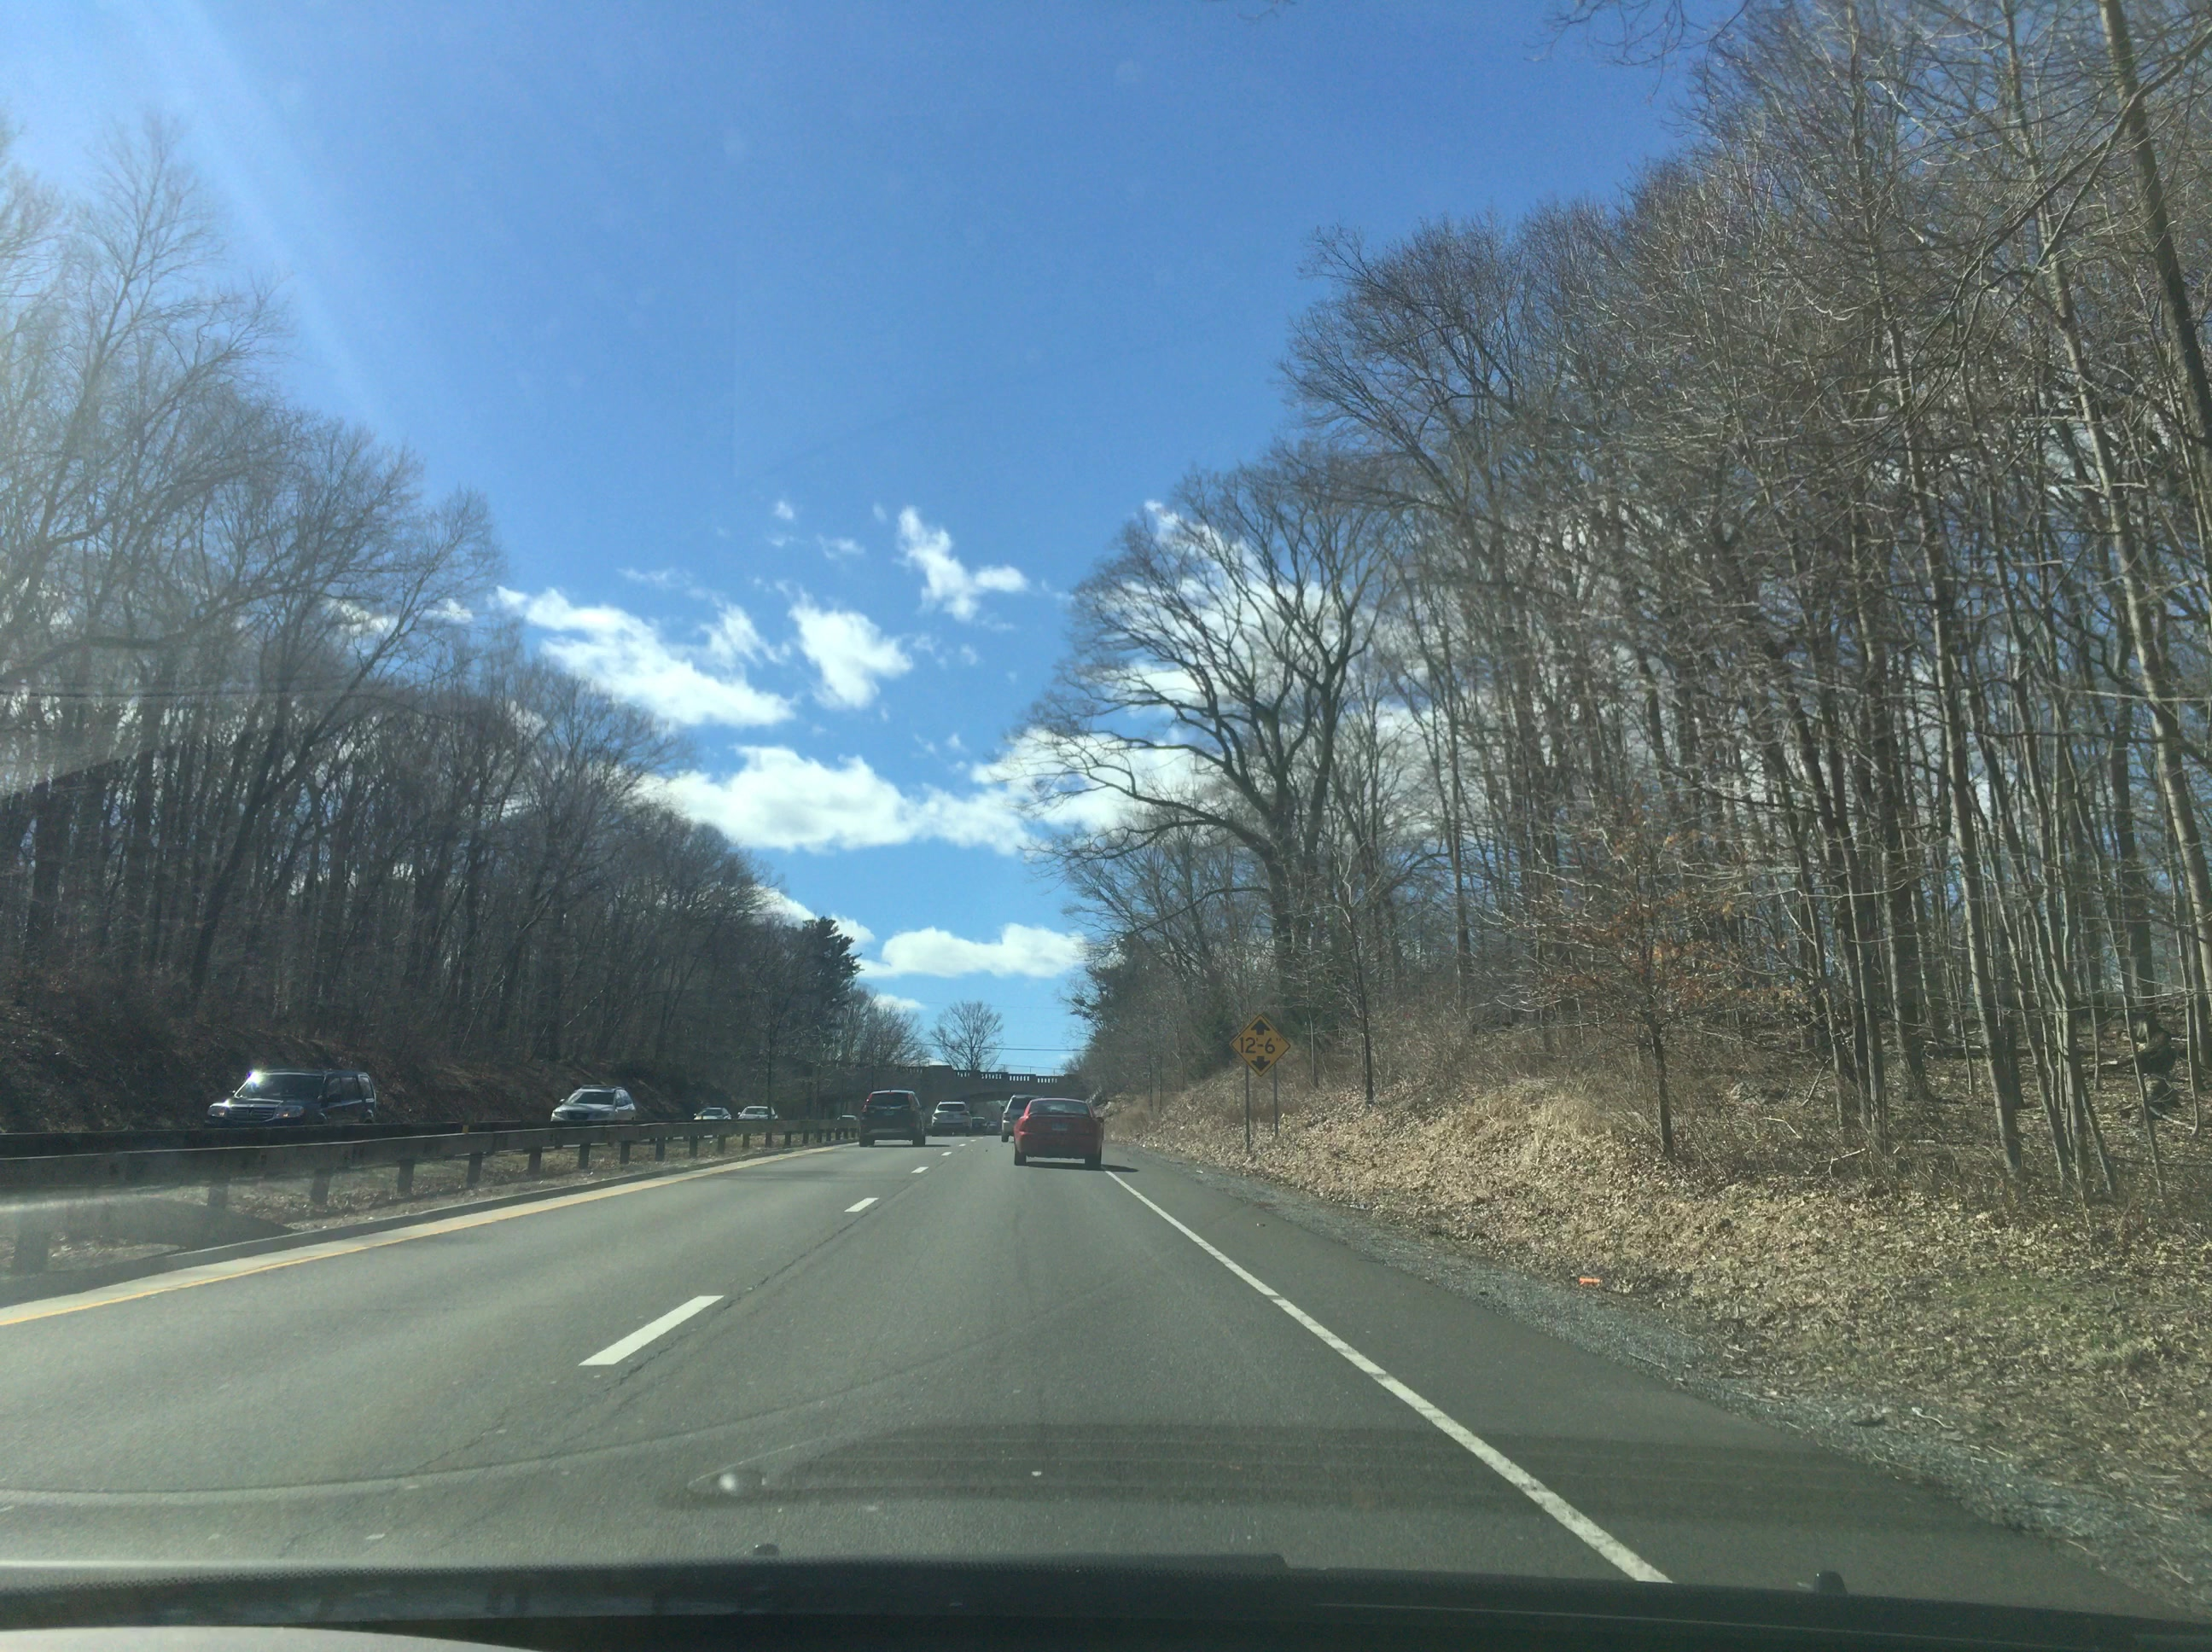low-clearance-sign: (1228, 1013, 1291, 1078)
